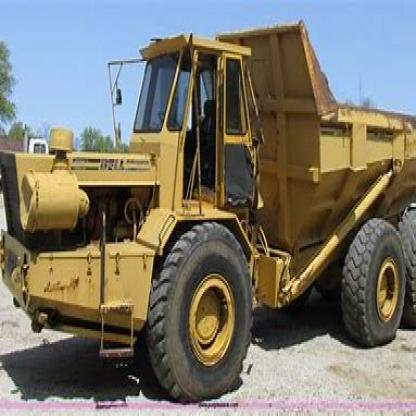dump_truck: (12, 19, 415, 386)
